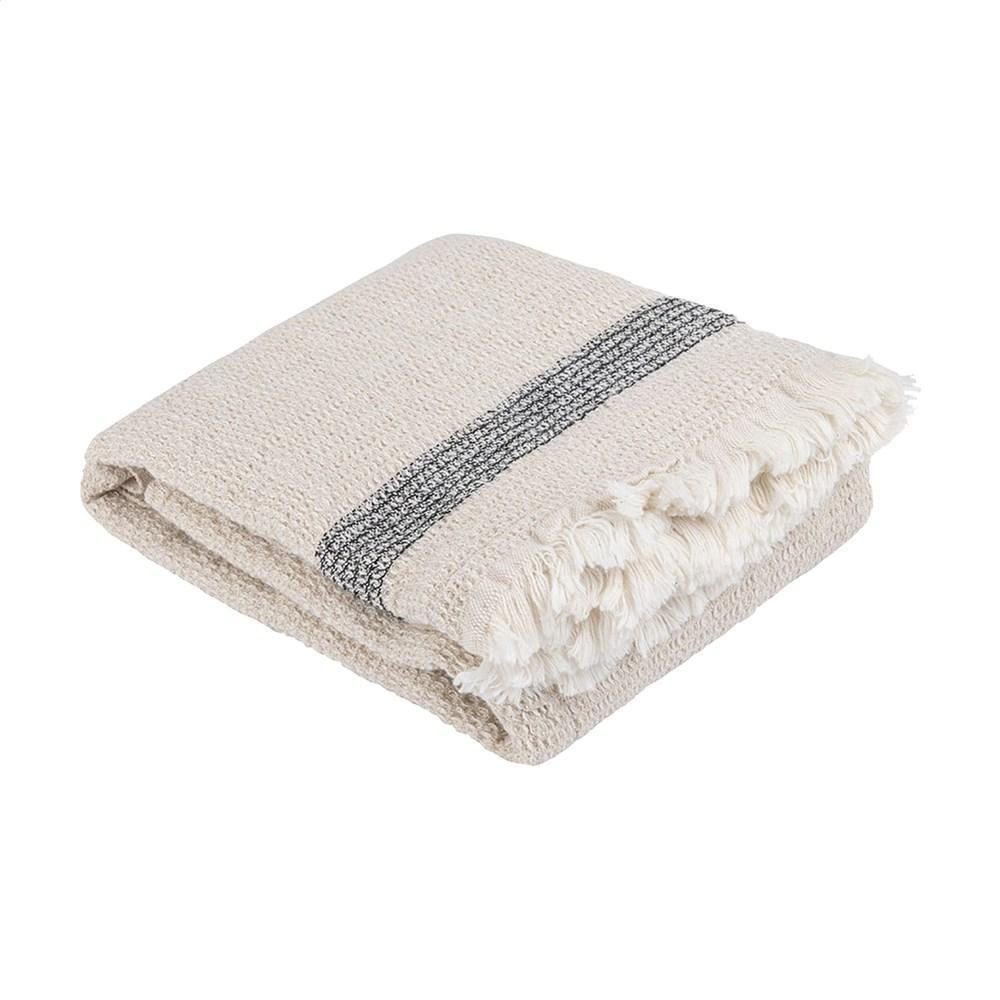towel: (57, 145, 938, 818)
